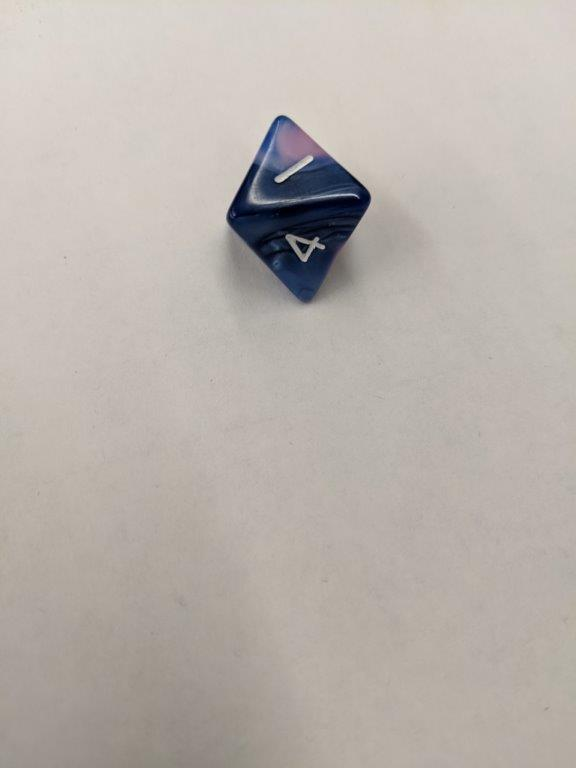d8-1: (226, 113, 372, 304)
